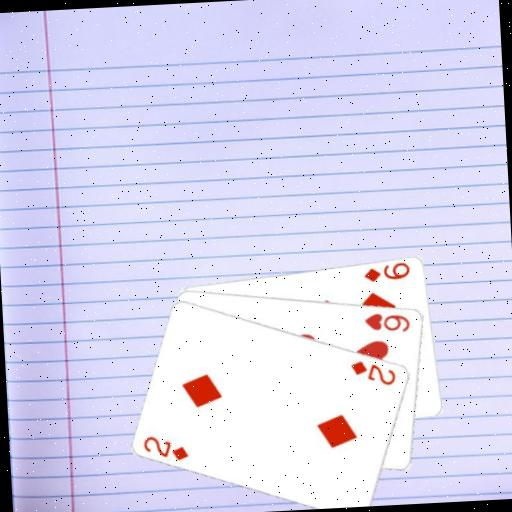2D: (347, 356, 398, 389), (140, 431, 191, 464)
6H: (362, 307, 413, 335)
9D: (361, 259, 413, 284)
